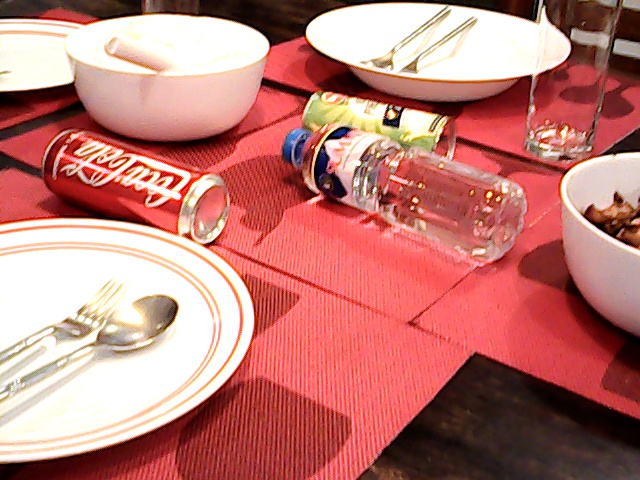Cola: (32, 119, 235, 246)
Pine Juice: (305, 74, 461, 141)
Summit Water: (293, 130, 491, 244)
